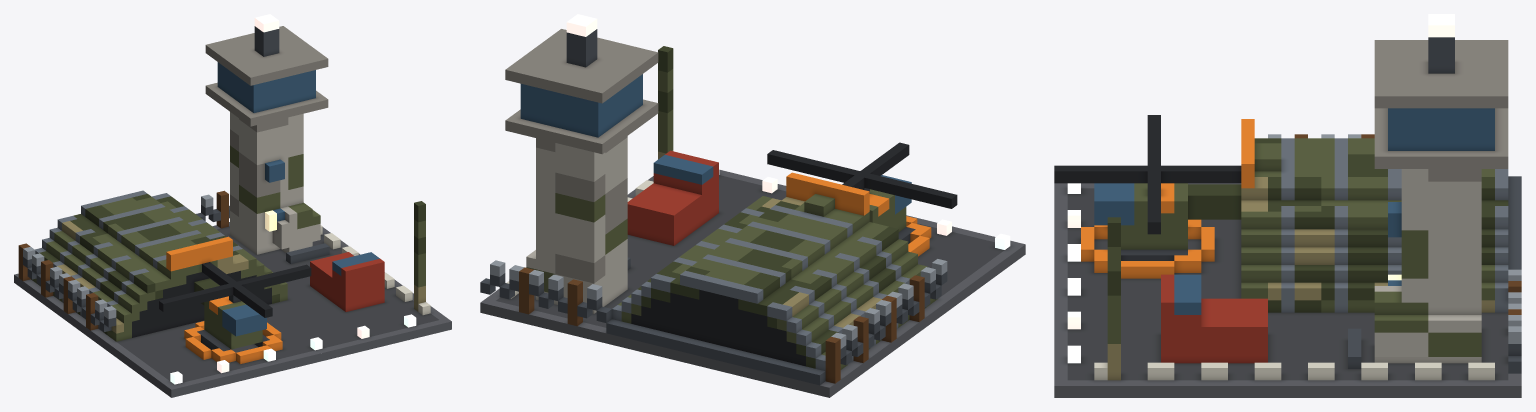
The model's file is cm_airfield_5.glb.
3 views of the same model, side by side, from view 1: azimuth 30°, elevation 25°; view 2: azimuth 150°, elevation 25°; view 3: azimuth 270°, elevation 25° (orthographic). The views are drawn at different scales.
Parts seen in each view (by area): view 1: cm_airfield_5_body; view 2: cm_airfield_5_body; view 3: cm_airfield_5_body.
Boxes of the visible parts, box(x1,y1,x2,y2) form: cm_airfield_5_body: box(14, 14, 451, 397); cm_airfield_5_body: box(480, 14, 1025, 397); cm_airfield_5_body: box(1054, 14, 1521, 397).
Size of the model in its own units: 2.25 by 1.75 by 2.19.
Materials: 1 (1 with a texture image).
